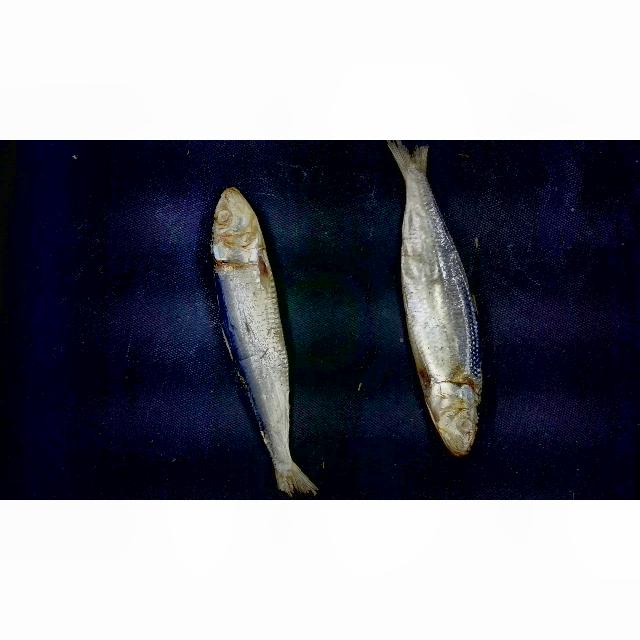Grade_A_Body: (206, 270, 308, 415), (389, 239, 492, 370)
Grade_A_Head: (412, 383, 493, 461), (203, 187, 276, 263)
Grade_A_Tail: (363, 140, 463, 228), (246, 421, 332, 500)
